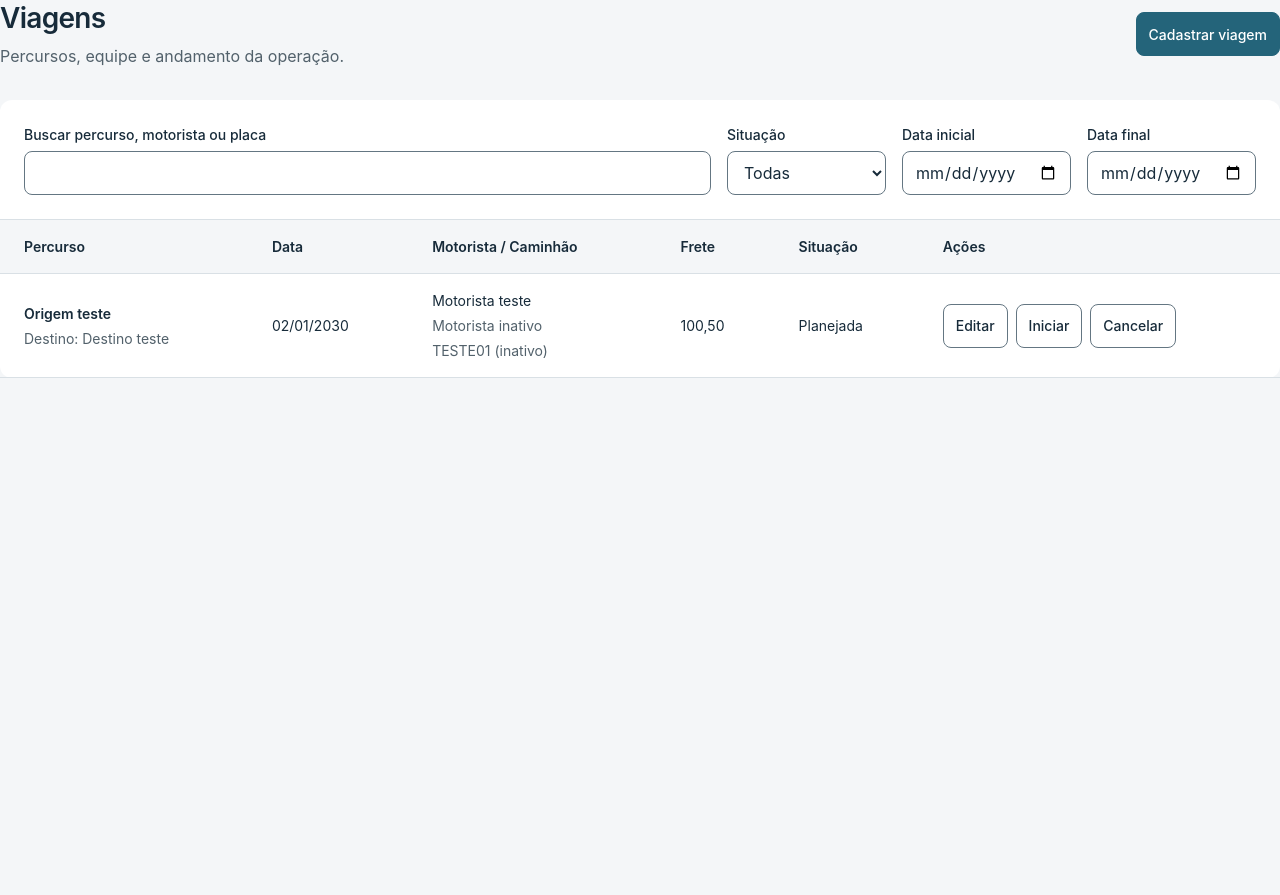
Scenario: edita planejada mantendo vinculos atuais desativados
The width and height of the screenshot is (1280, 895).
Click the button with aria-label "Editar viagem Origem teste": (975, 326) top-left (943, 304), bottom-right (1008, 348)
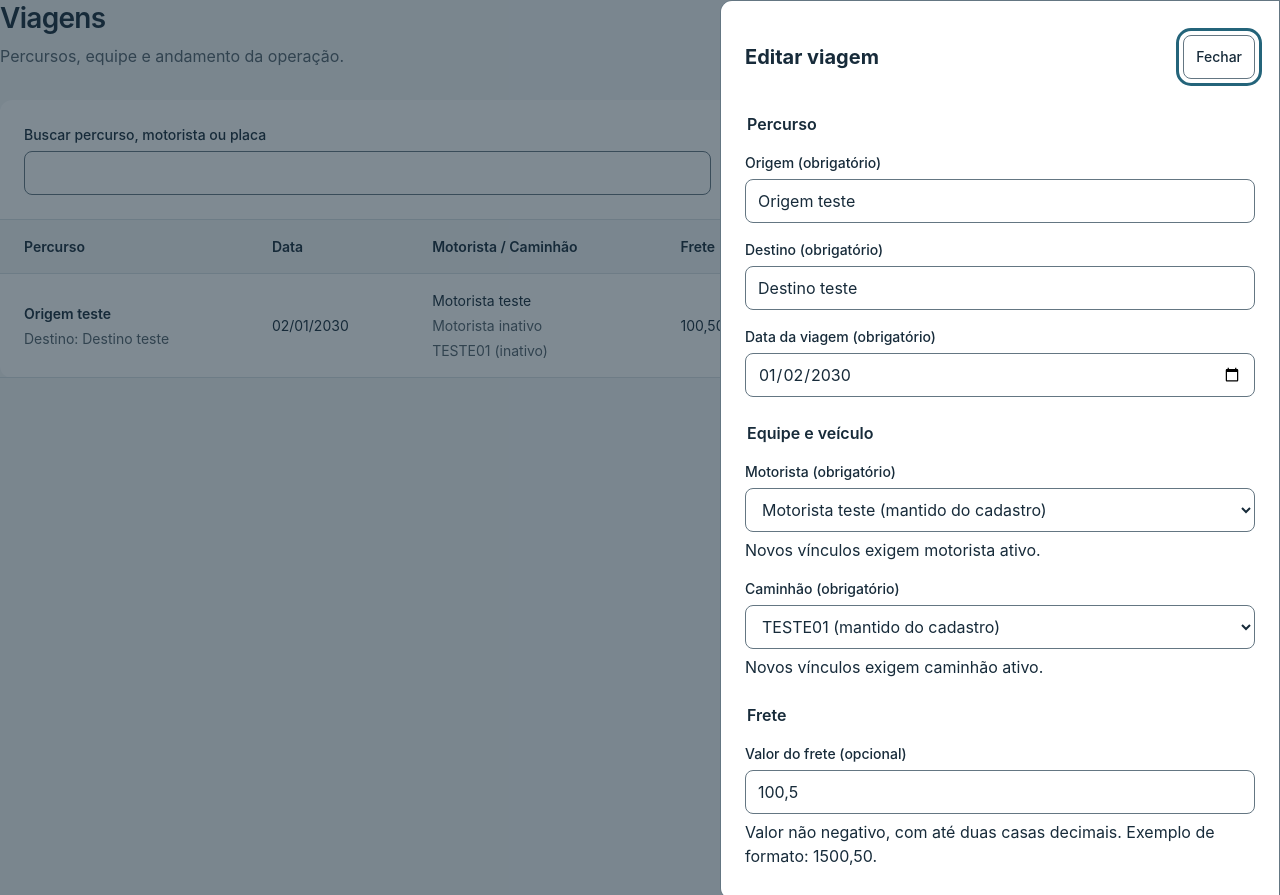
Replace the text in the field labelled "Destino (obrigatório)" with "Editado": (1000, 288) top-left (745, 266), bottom-right (1255, 310)
(page scrolled)
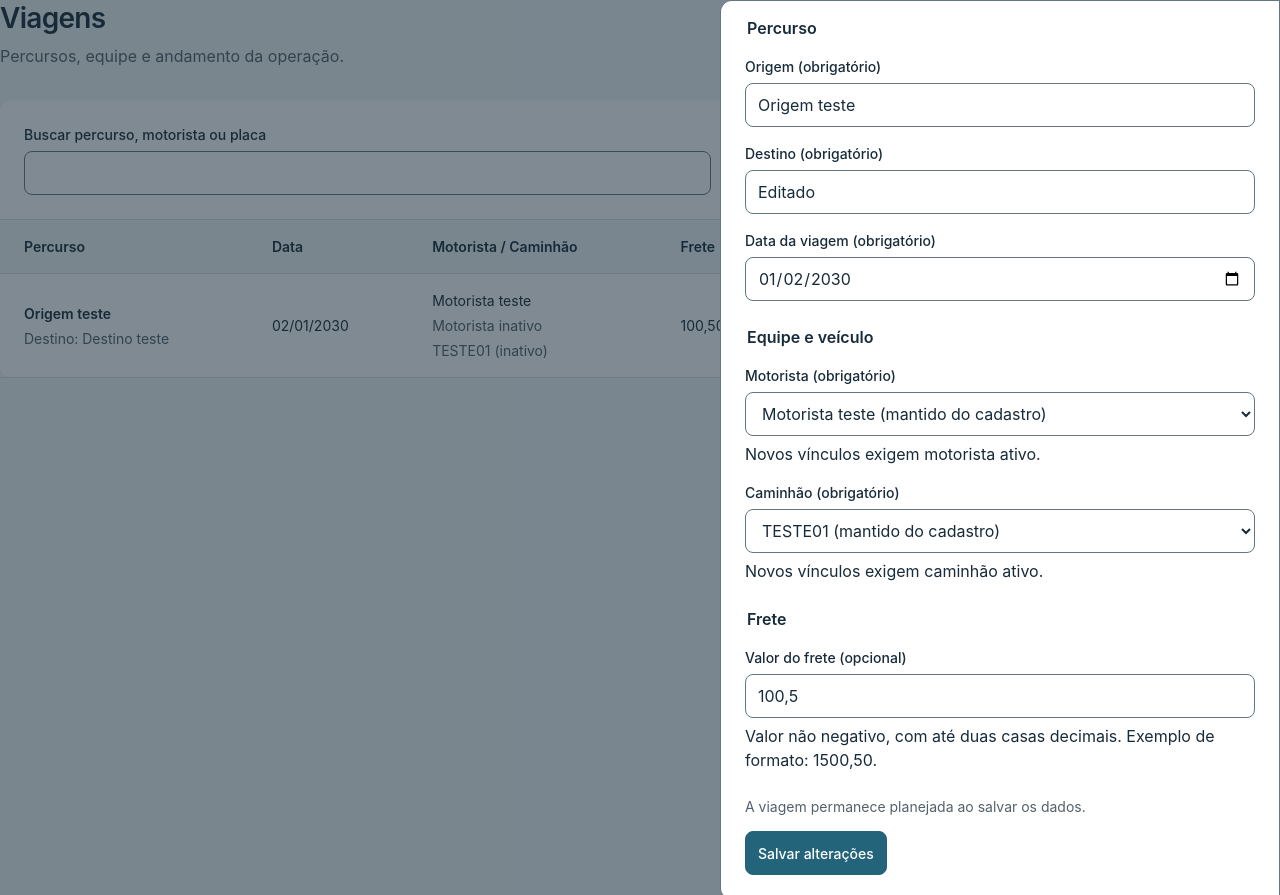
Click the button "Salvar alterações": (816, 853) top-left (745, 831), bottom-right (887, 875)
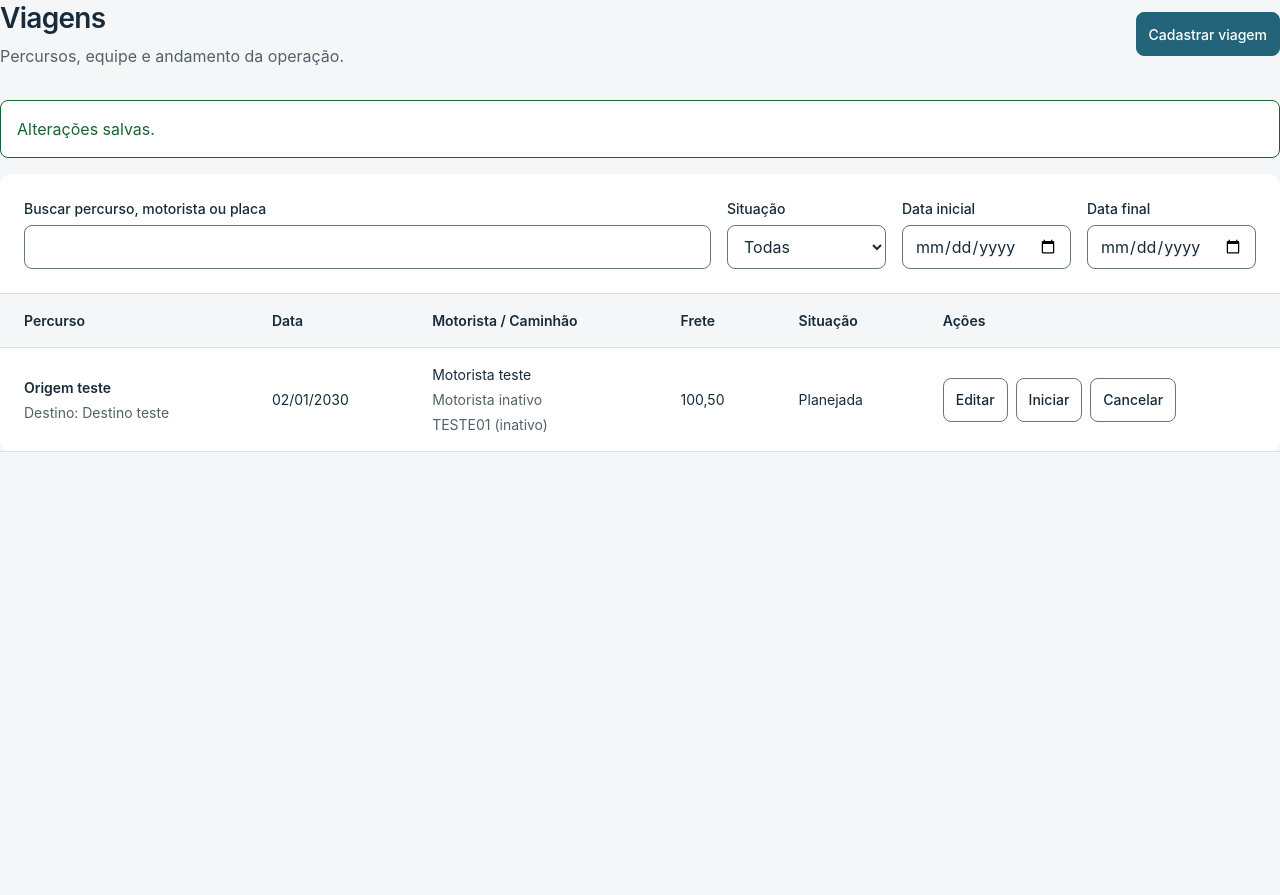
Check: the text "Alterações salvas." is shown, box top-left (0, 100), bottom-right (1279, 158)
